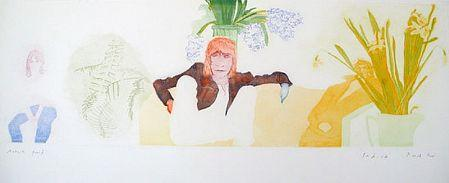person: (154, 34, 293, 147)
